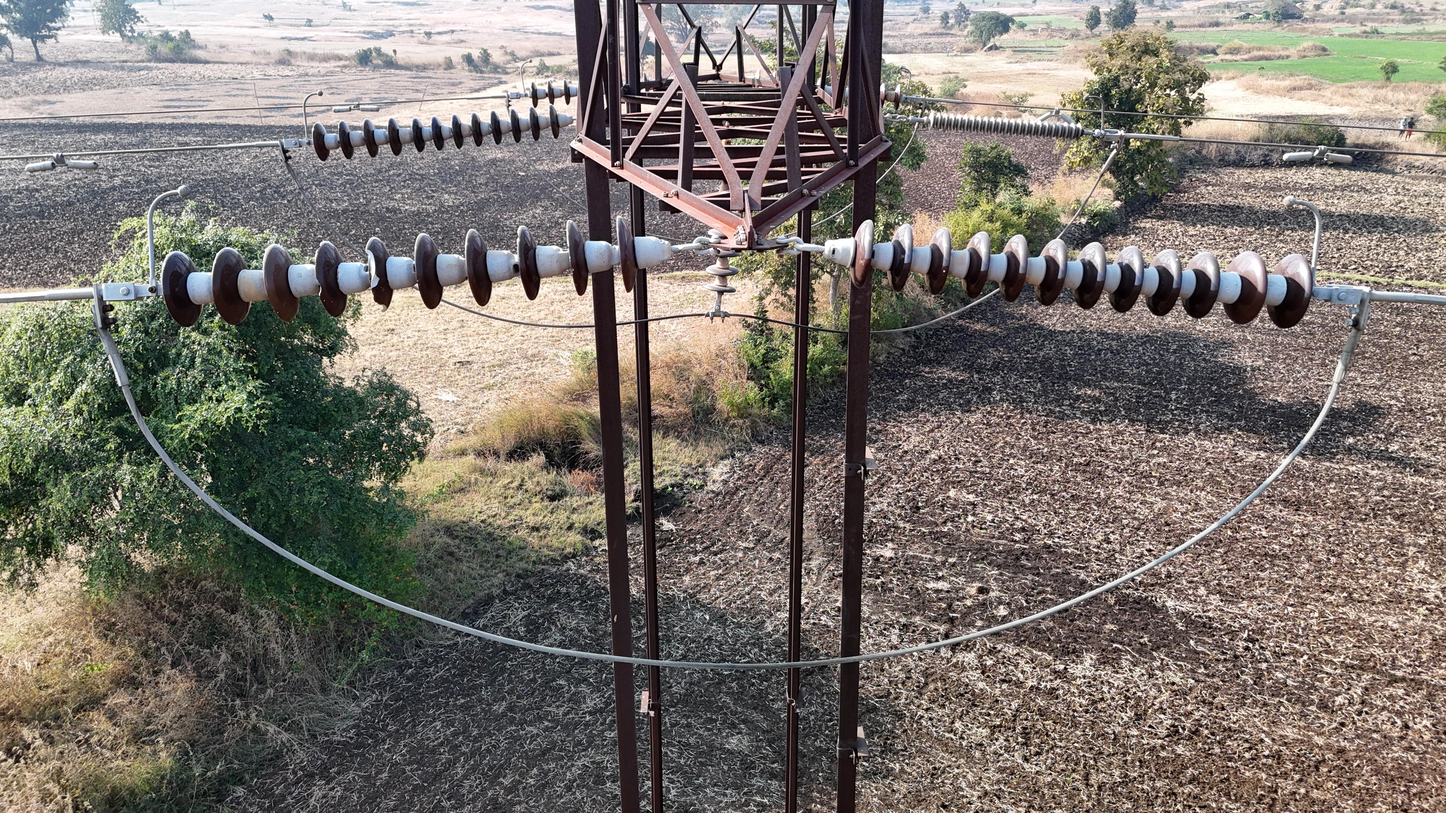broken_insulator: (304, 239, 349, 322), (360, 237, 397, 314)
